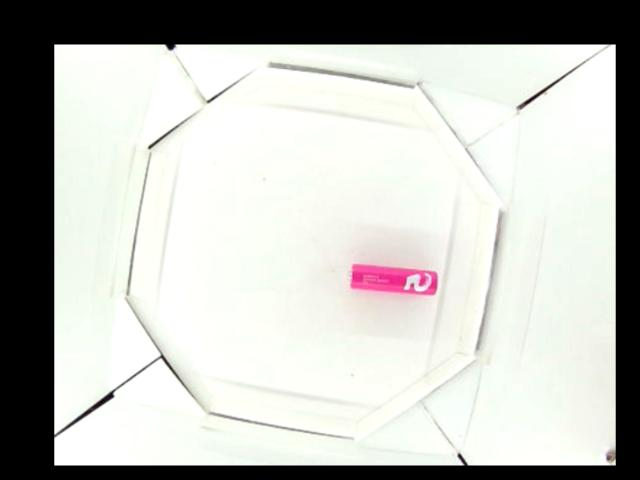Battery: (348, 265, 440, 294)
